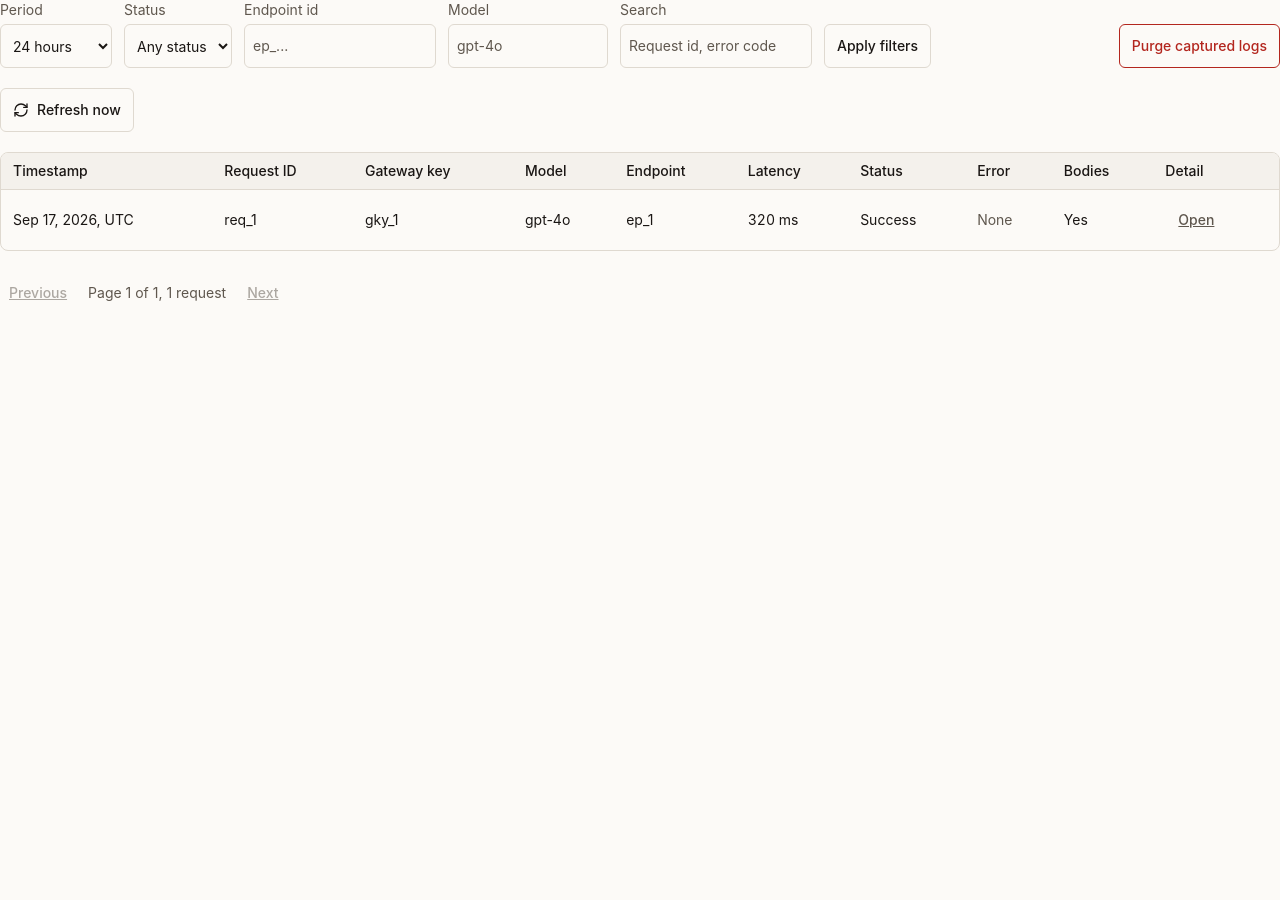
Scenario: the request detail and the purge dialog › says capture is off, and names the fix, rather than showing an empty body area
Expected: the table is shown, [1, 153, 1279, 250]
Click the button "Open".
click(1196, 220)  # box [1165, 198, 1227, 242]
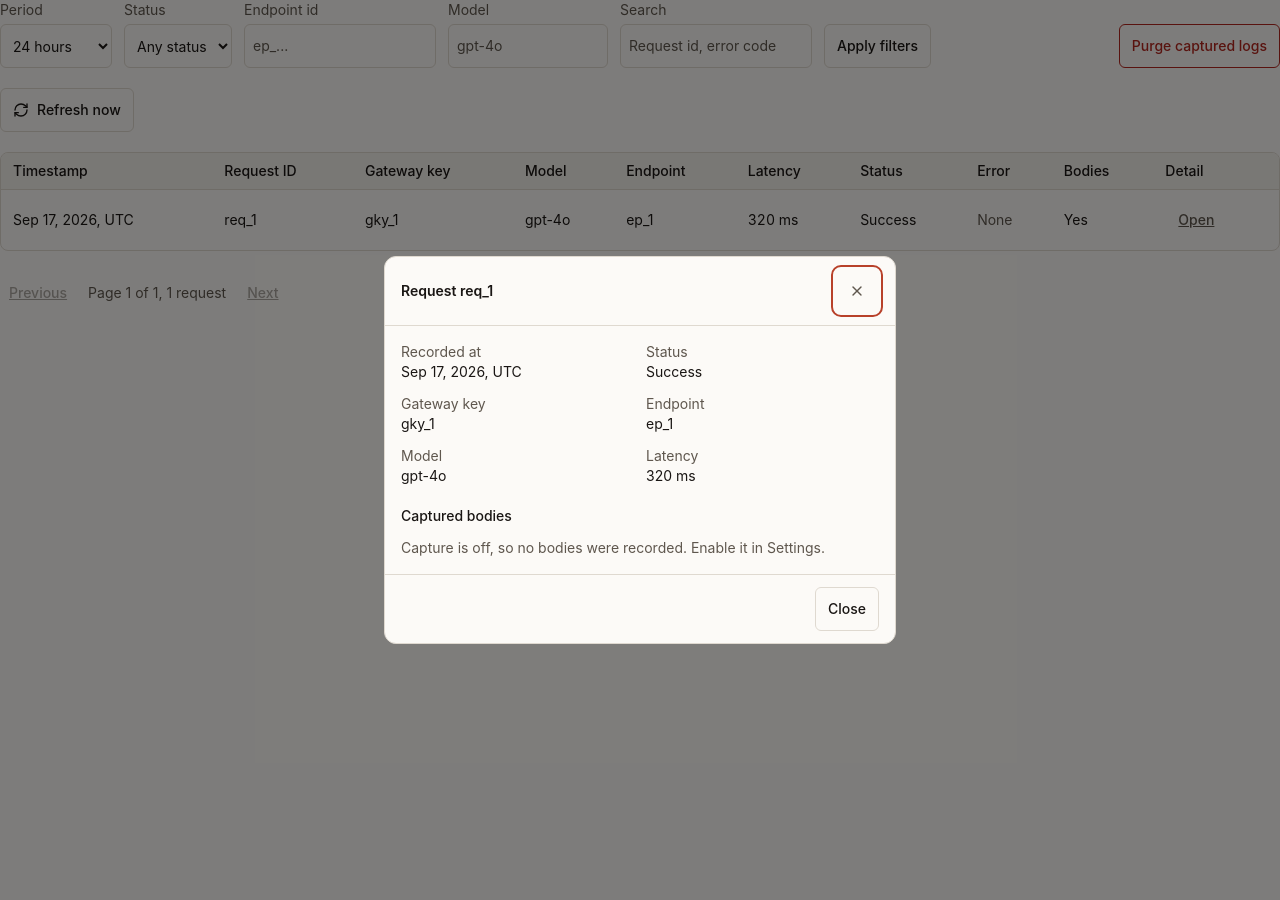
Result: the text "Capture is off" is shown at [401, 539, 825, 556]
